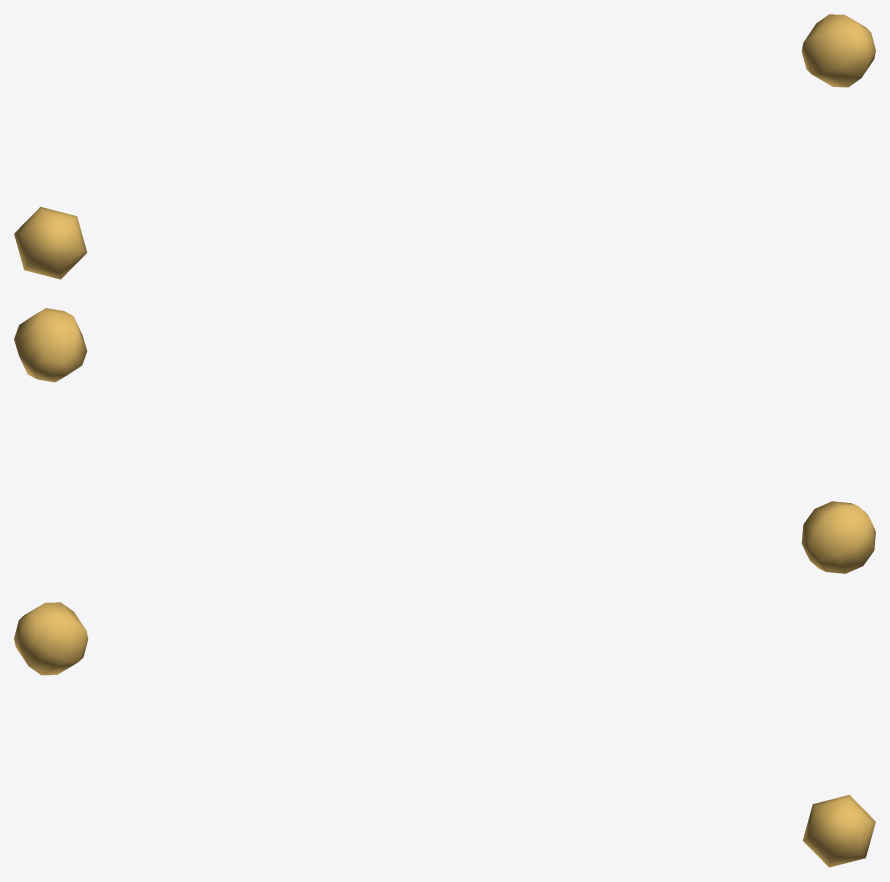
File: Earring_2.fbx
3 renders of one model, top to bottom at view 1: azimuth 30°, elevation 25°; view 2: azimuth 150°, elevation 25°; view 3: azimuth 330°, elevation 25°, orthographic.
Parts seen in each view (by area): view 1: Earring_2; view 2: Earring_2; view 3: Earring_2.
Boxes of the visible parts, x1=… form: Earring_2: x1=14, y1=14, x2=875, y2=279; Earring_2: x1=14, y1=308, x2=875, y2=573; Earring_2: x1=14, y1=602, x2=875, y2=867.
Size of the model in its own units: 55.2 by 4.16 by 4.08.
